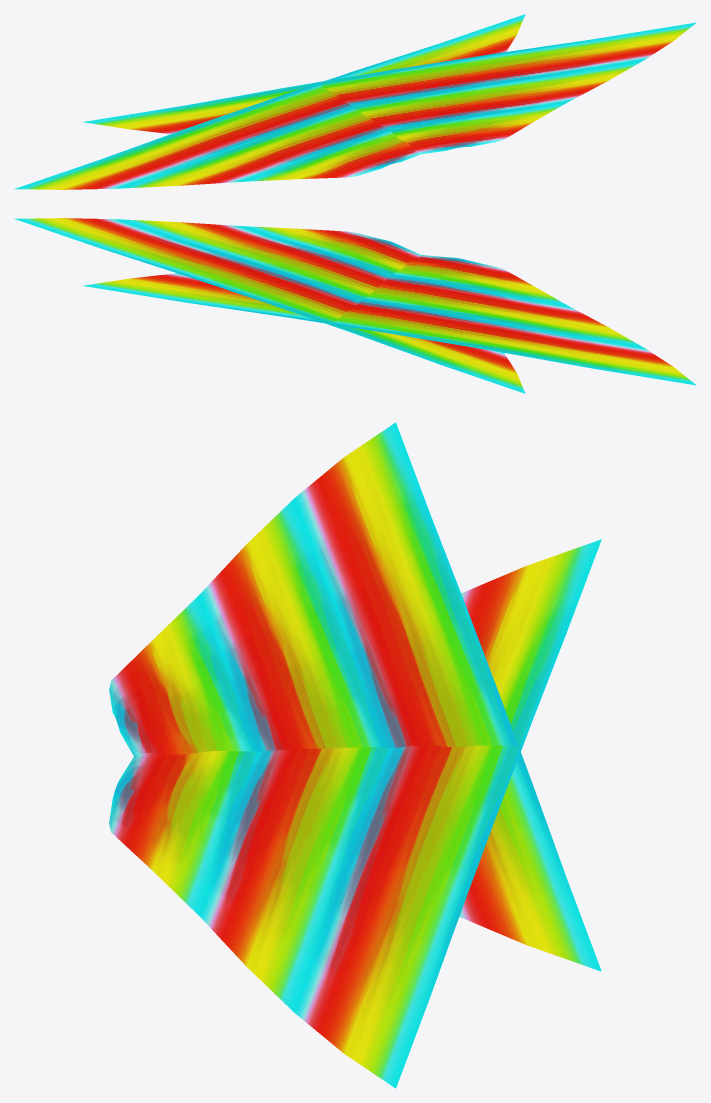
The model's file is EFX.fbx.
3 renders of one model, top to bottom at view 1: azimuth 30°, elevation 25°; view 2: azimuth 150°, elevation 25°; view 3: azimuth 270°, elevation 25°, orthographic. The views are drawn at different scales.
Parts seen in each view (by area): view 1: Plane (×2); view 2: Plane (×2); view 3: Plane (×2).
Boxes of the visible parts, x1,y1,x2,y2 form: Plane (×2): (14,14,696,189); Plane (×2): (14,218,696,393); Plane (×2): (109,422,601,1088).
Bounding box in the file's own units: 88.99 × 0.343 × 27.8.
